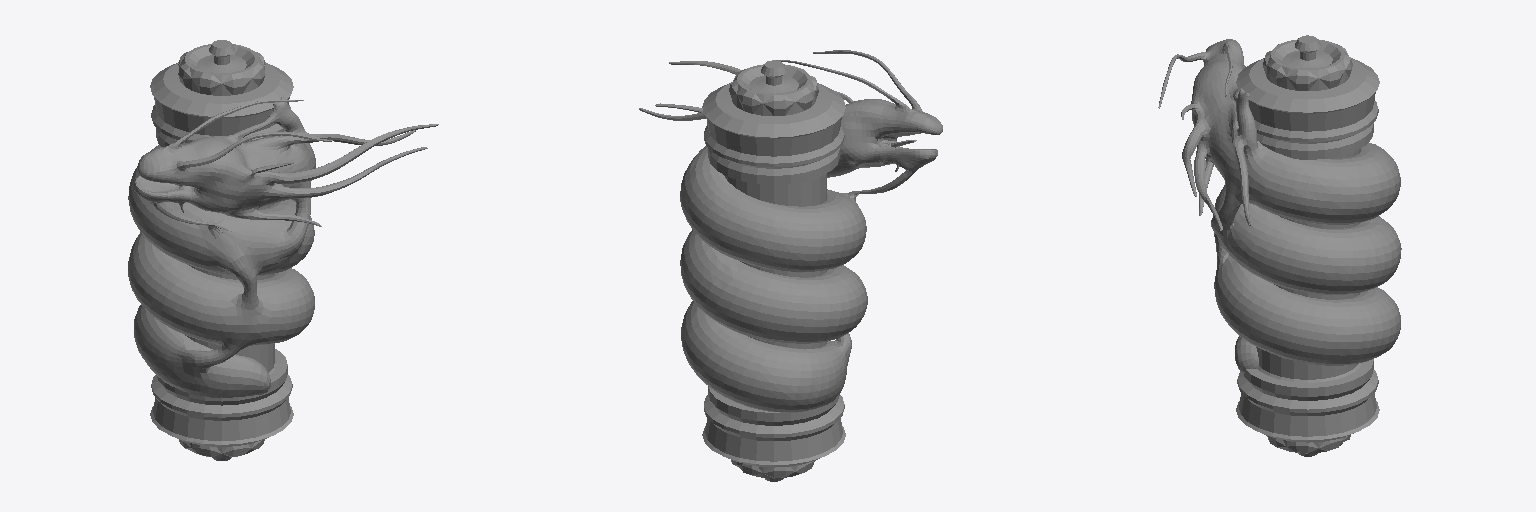
The model's file is dragon.obj.
3 renders of one model, left to right at view 1: azimuth 30°, elevation 25°; view 2: azimuth 150°, elevation 25°; view 3: azimuth 270°, elevation 25°, orthographic.
Parts seen in each view (by area): view 1: Drugon.001_メッシュ, Stoyka_メッシュ.001; view 2: Drugon.001_メッシュ, Stoyka_メッシュ.001; view 3: Drugon.001_メッシュ, Stoyka_メッシュ.001.
Boxes of the visible parts, x1=… form: Drugon.001_メッシュ: x1=128, y1=97, x2=438, y2=397; Stoyka_メッシュ.001: x1=150, y1=40, x2=293, y2=460; Drugon.001_メッシュ: x1=639, y1=50, x2=942, y2=412; Stoyka_メッシュ.001: x1=702, y1=60, x2=845, y2=481; Drugon.001_メッシュ: x1=1158, y1=39, x2=1401, y2=373; Stoyka_メッシュ.001: x1=1236, y1=35, x2=1379, y2=456.
Bounding box in the file's own units: 1.2 × 1.65 × 0.8775.